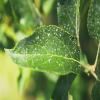Apple Scab Leaf: (3, 23, 85, 77)
